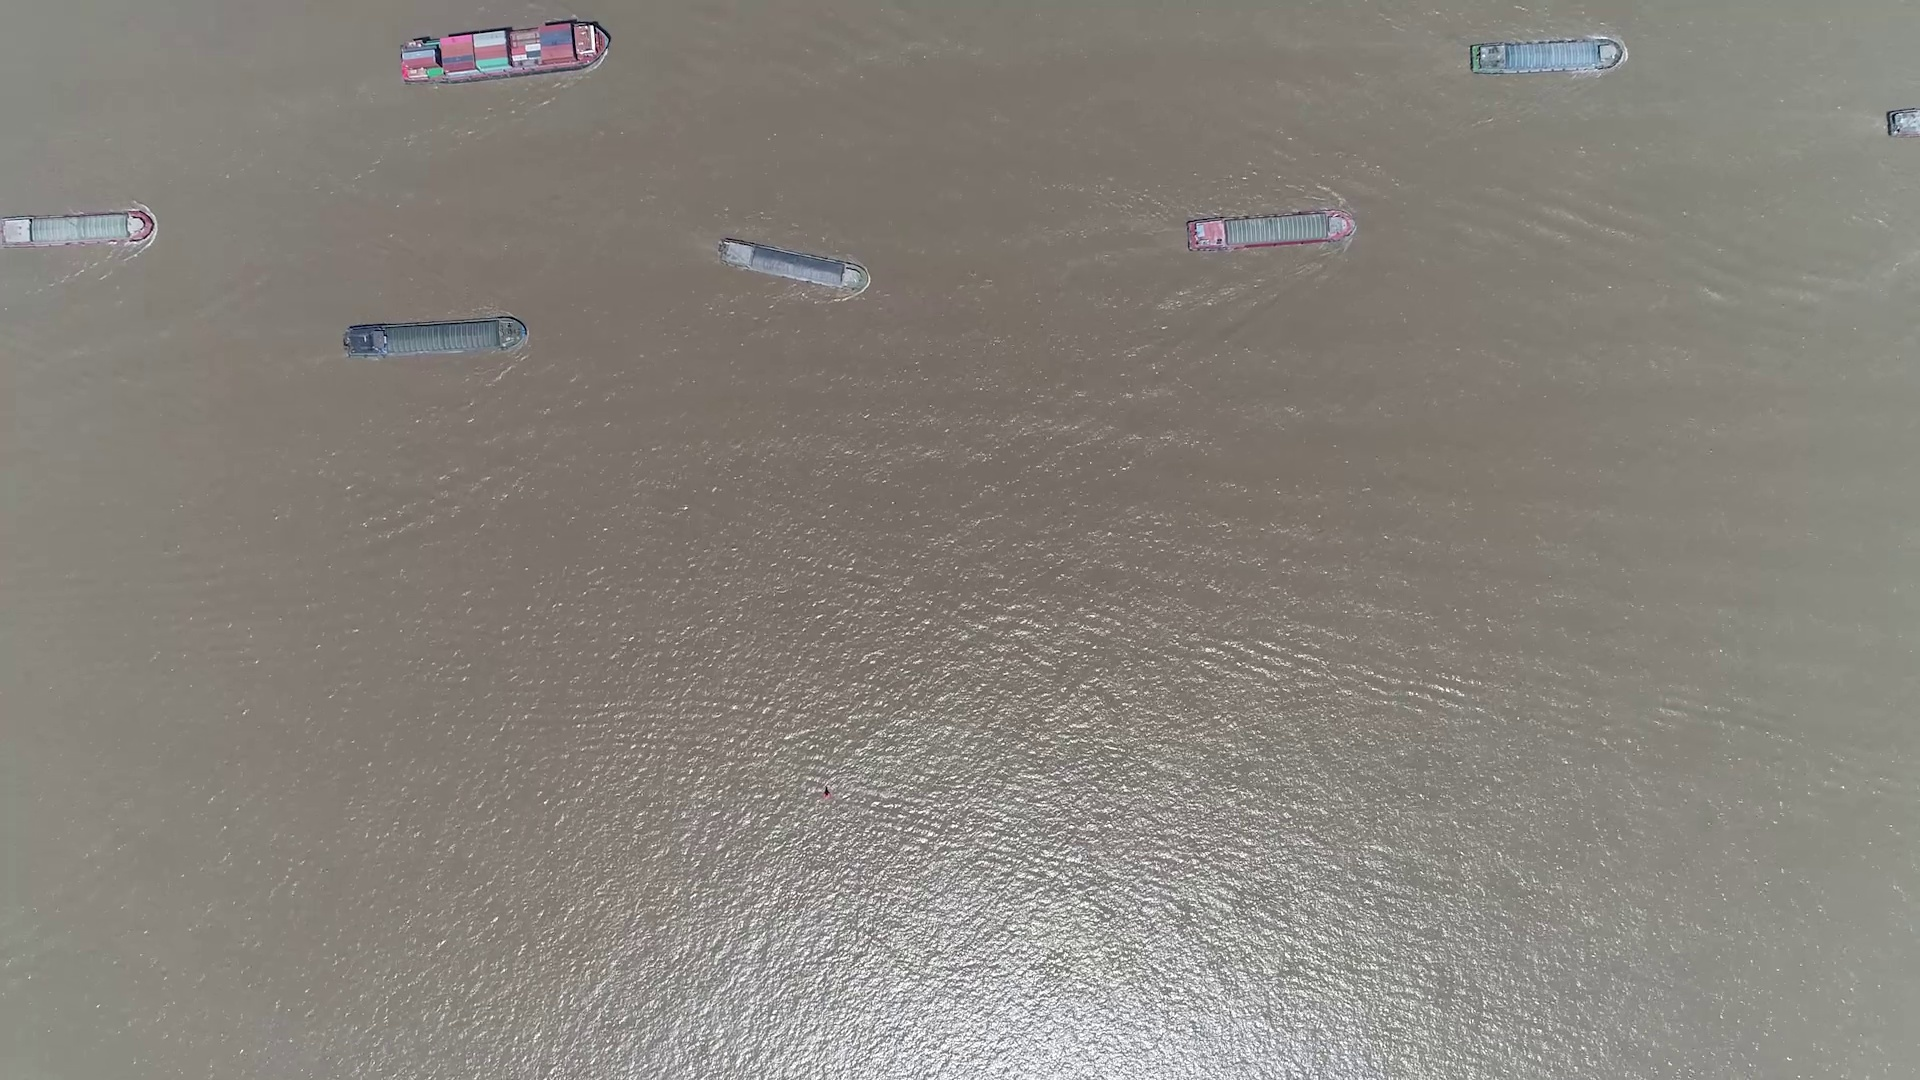ship: (400, 22, 608, 83), (717, 237, 869, 291), (343, 318, 525, 360), (1187, 211, 1356, 251), (1470, 40, 1623, 75), (0, 211, 154, 245)
